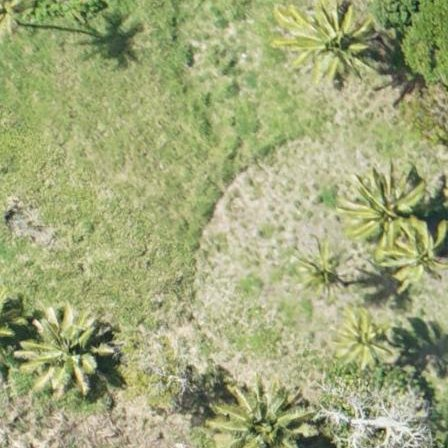palm_tree: (338, 164, 423, 254), (22, 306, 96, 385), (219, 379, 302, 448), (292, 5, 365, 81), (326, 305, 393, 377), (379, 227, 444, 296), (303, 244, 344, 288)
